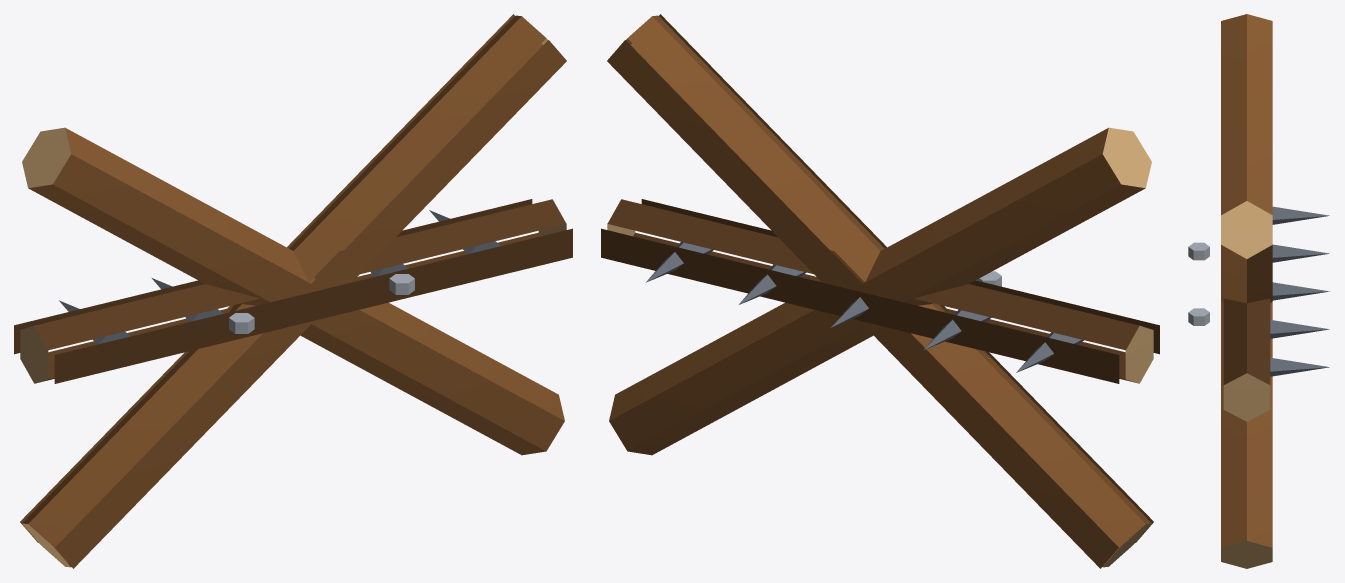
Rendered from item_barricade.glb.
3 renders of one model, left to right at view 1: azimuth 30°, elevation 25°; view 2: azimuth 150°, elevation 25°; view 3: azimuth 270°, elevation 25°, orthographic. The views are drawn at different scales.
Visible parts, largest first — view 1: item_barricade, item_barricade_detail; view 2: item_barricade; view 3: item_barricade, item_barricade_detail.
Part boxes in pixels (x1,y1,x2,y2): item_barricade: (14, 14, 572, 568); item_barricade_detail: (229, 274, 414, 333); item_barricade: (601, 14, 1159, 568); item_barricade: (1221, 14, 1330, 568); item_barricade_detail: (1188, 242, 1209, 325).
Bounding box in the file's own units: 0.86 × 0.68 × 0.238.
